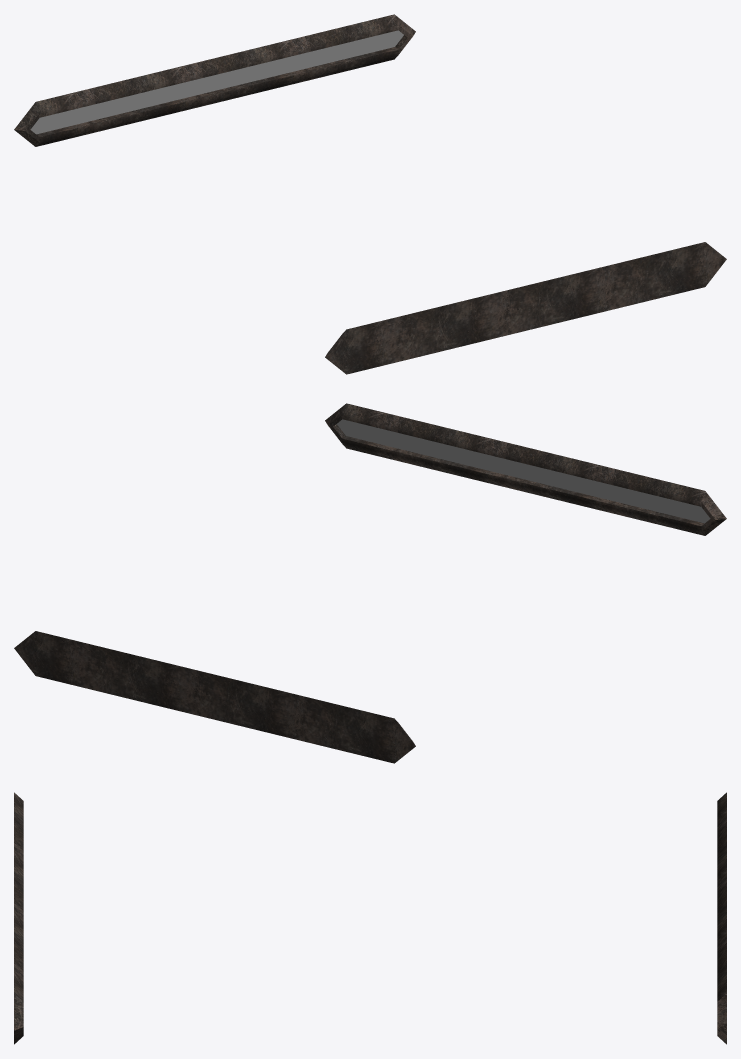
The model's file is RollerTrap.FBX.
The picture shows the model from 3 angles, top to bottom: view 1: azimuth 30°, elevation 25°; view 2: azimuth 150°, elevation 25°; view 3: azimuth 270°, elevation 25°; orthographic projection. The views are drawn at different scales.
Parts seen in each view (by area): view 1: RollerTrap; view 2: RollerTrap; view 3: RollerTrap.
Boxes of the visible parts, <box> form: RollerTrap: <box>14,14,726,374</box>; RollerTrap: <box>14,403,726,763</box>; RollerTrap: <box>14,792,726,1044</box>.
Bounding box in the file's own units: 560 × 60.12 × 750.
